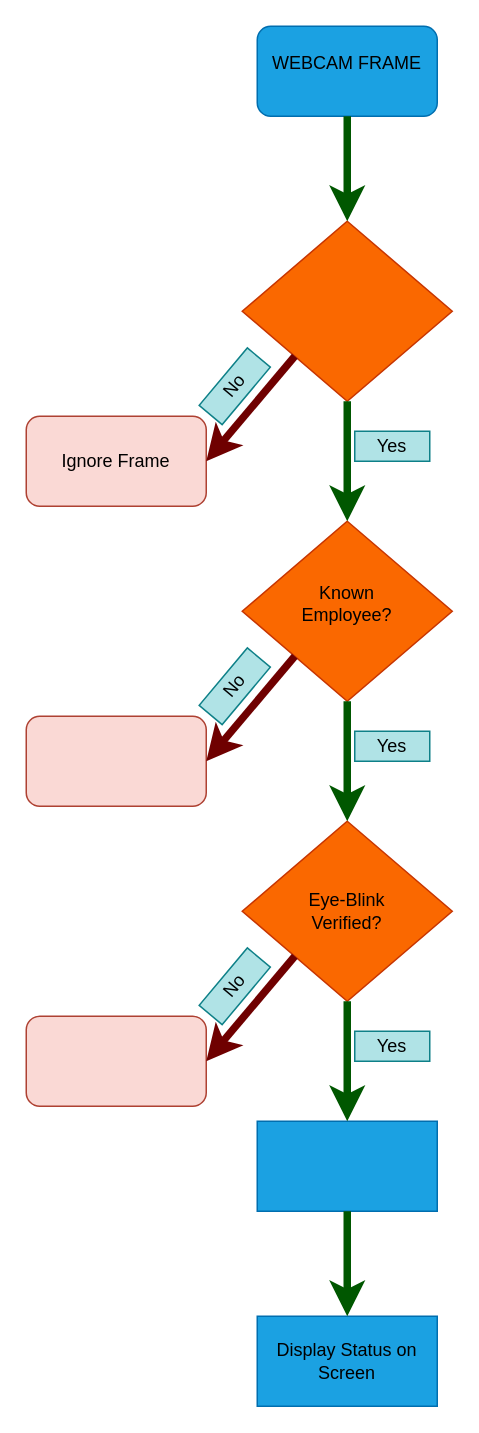
Some shapes in this 479 by 1433 pixel diagram are drawn without their labels. Here are the shapes that lost their labels. From the top down, the box of each, then its label:
(241, 220, 452, 401): Face Detected?
(25, 715, 206, 806): Save Unknown Image
(25, 1015, 206, 1106): Reject/Wait
(256, 1120, 437, 1211): Log Attendance (Check-in/out)
